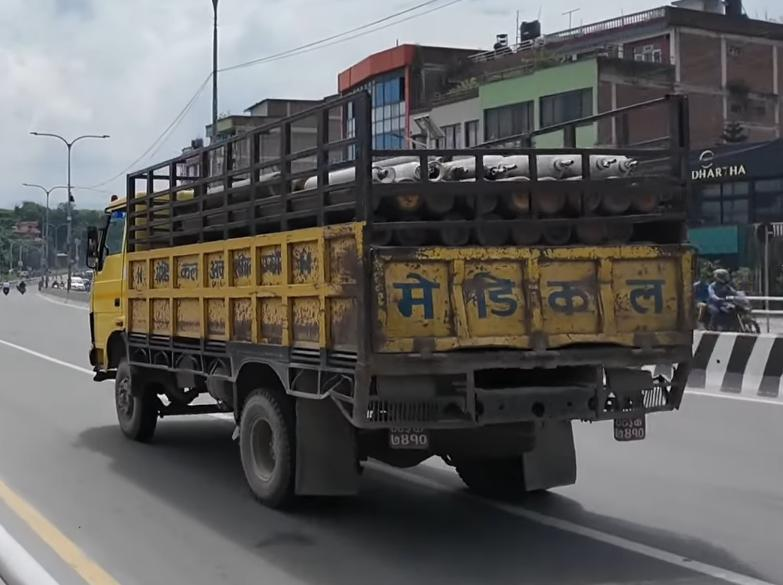truck: (85, 87, 700, 508)
